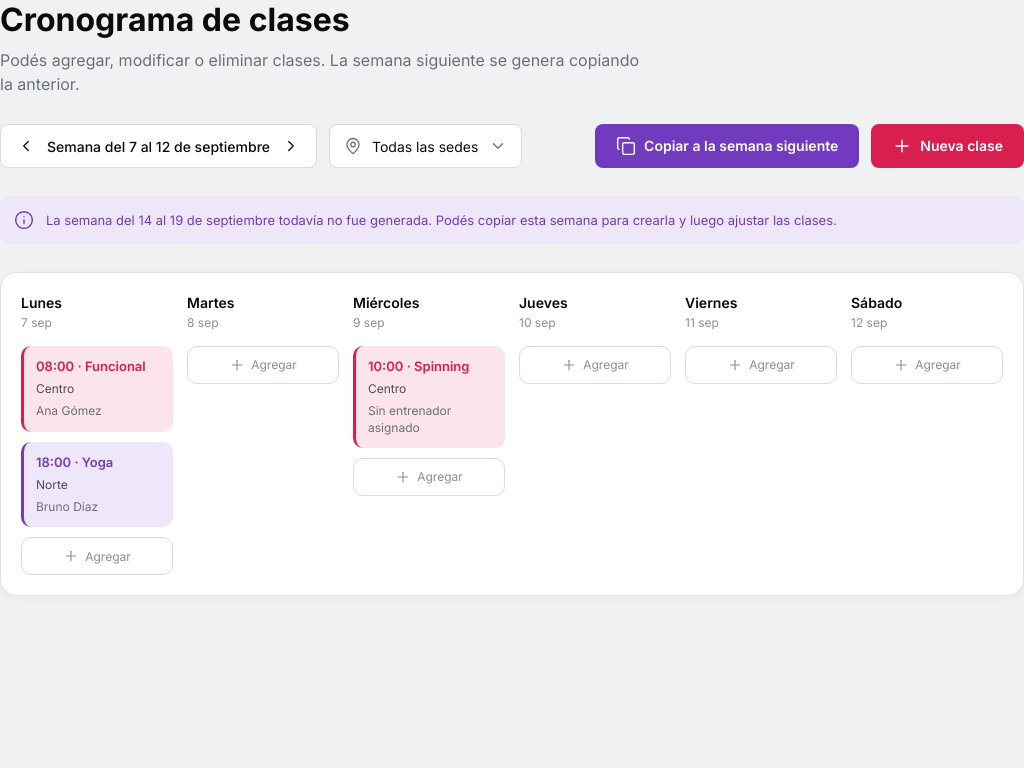
Test: cronograma semanal › valida localmente que la clase sea futura
Expected: the text "08:00 · Funcional" is shown, [36, 358, 146, 375]
Click the button with aria-label "Agregar clase el Lunes 7 sep" at (97, 556), box [21, 537, 173, 575]
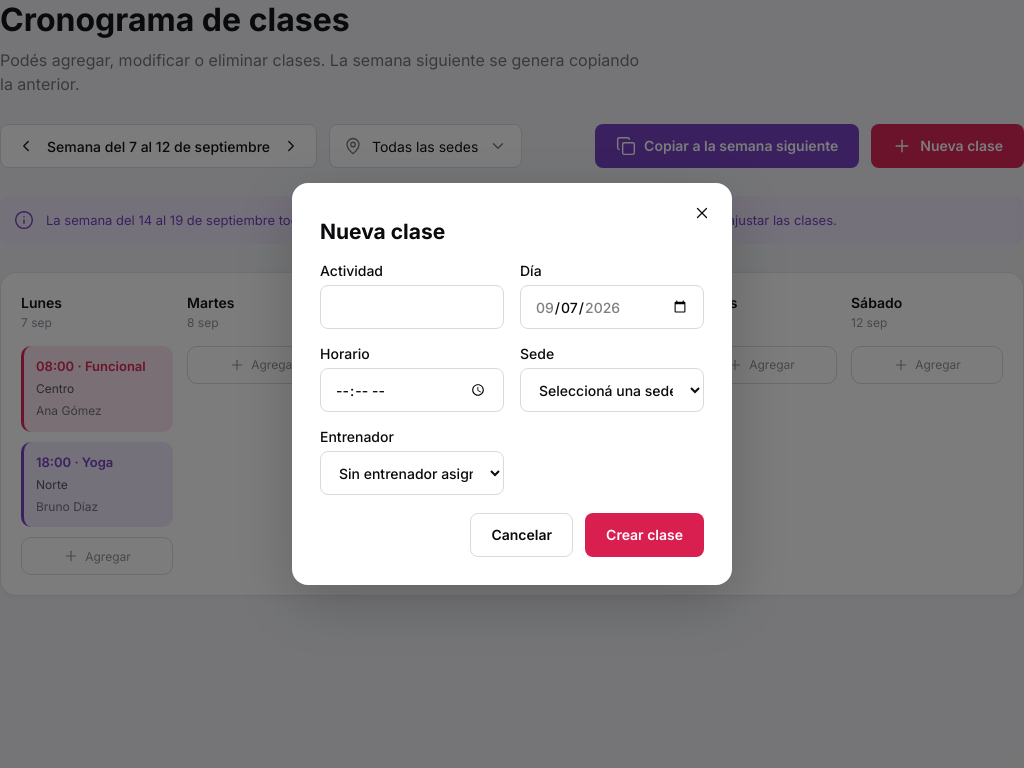
Type "Temprano" into the field labelled "Actividad" at (412, 307), box [320, 285, 504, 329]
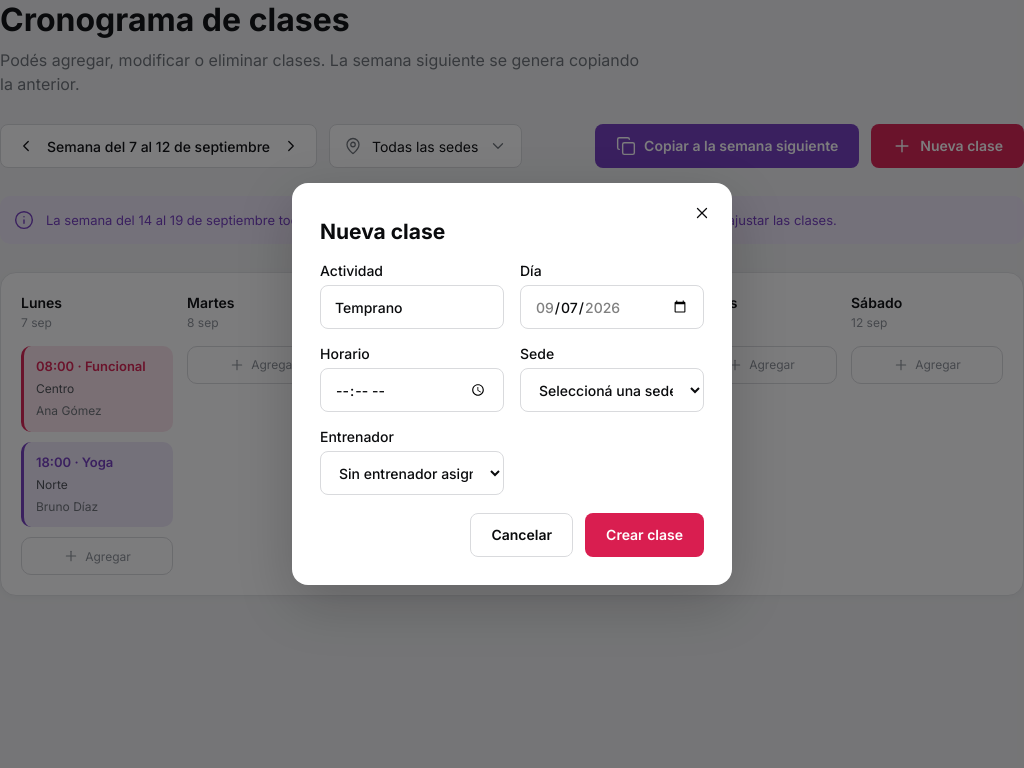
Type "05:00" into the time field labelled "Horario" at (412, 390), box [320, 368, 504, 412]
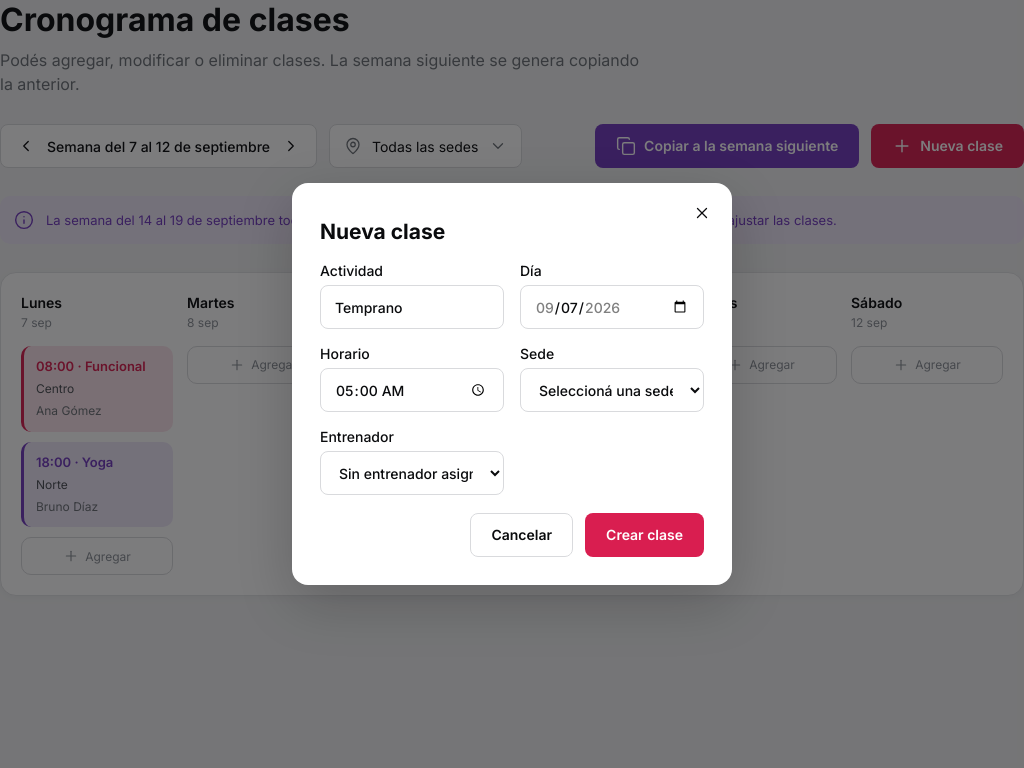
Select "Centro" in the dropdown labelled "Sede" at (612, 390), box [520, 368, 704, 412]
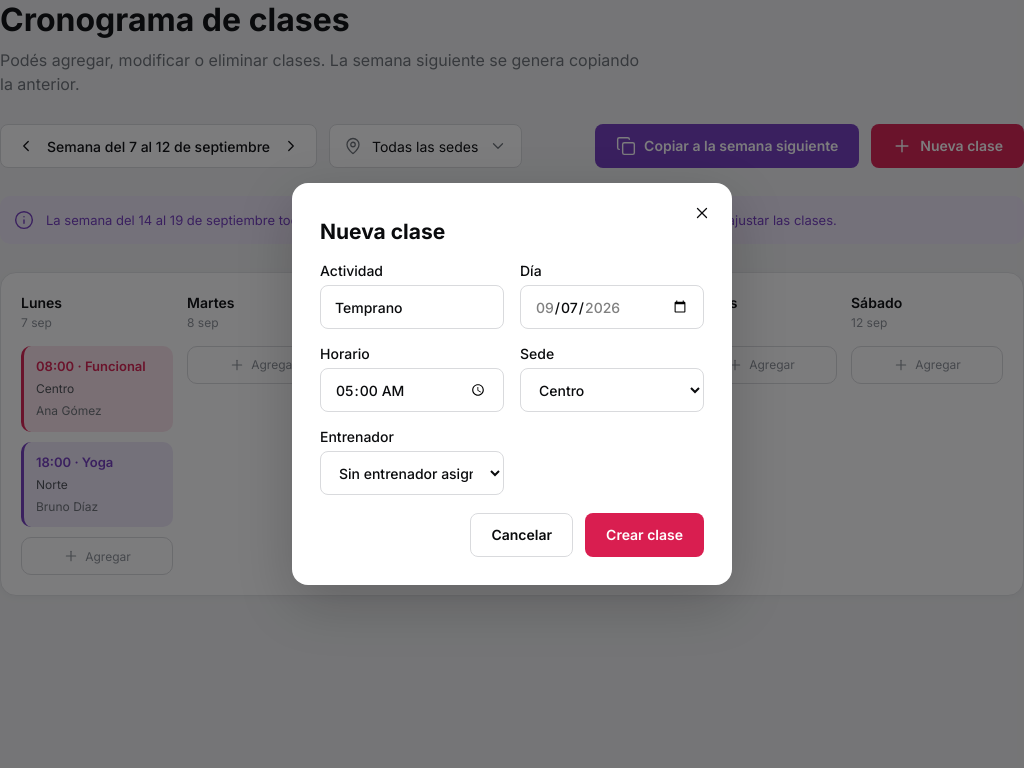
Click the button "Crear clase" at (645, 535), box [585, 513, 704, 557]
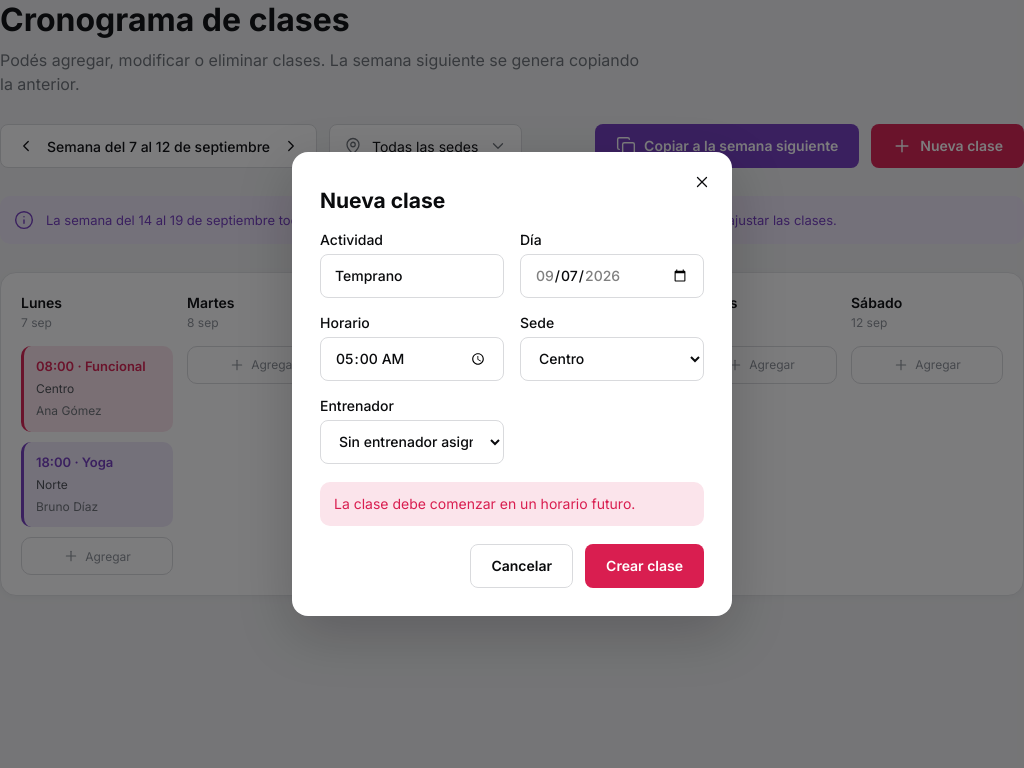
Now the message reads "La clase debe comenzar en un horario futuro.", box [334, 495, 635, 512]
